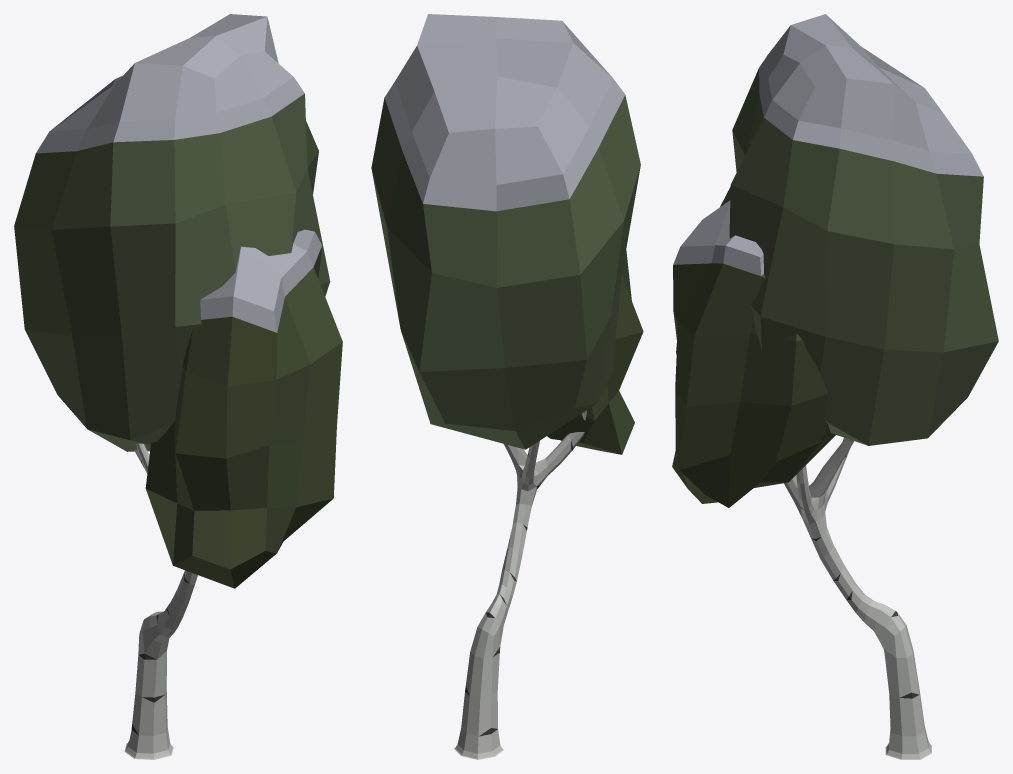
File: BirchTree_Snow_2.glb
3 views of the same model, side by side, from view 1: azimuth 30°, elevation 25°; view 2: azimuth 150°, elevation 25°; view 3: azimuth 270°, elevation 25° (orthographic). The views are drawn at different scales.
Visible parts, largest first — view 1: BirchTree_Snow_2_Cube.121; view 2: BirchTree_Snow_2_Cube.121; view 3: BirchTree_Snow_2_Cube.121.
Part boxes in pixels (x1,y1,x2,y2): BirchTree_Snow_2_Cube.121: [14, 14, 342, 759]; BirchTree_Snow_2_Cube.121: [371, 14, 643, 759]; BirchTree_Snow_2_Cube.121: [672, 14, 998, 759].
Size of the model in its own units: 1.47 by 4.09 by 1.69.
1 material, 1 textured.
